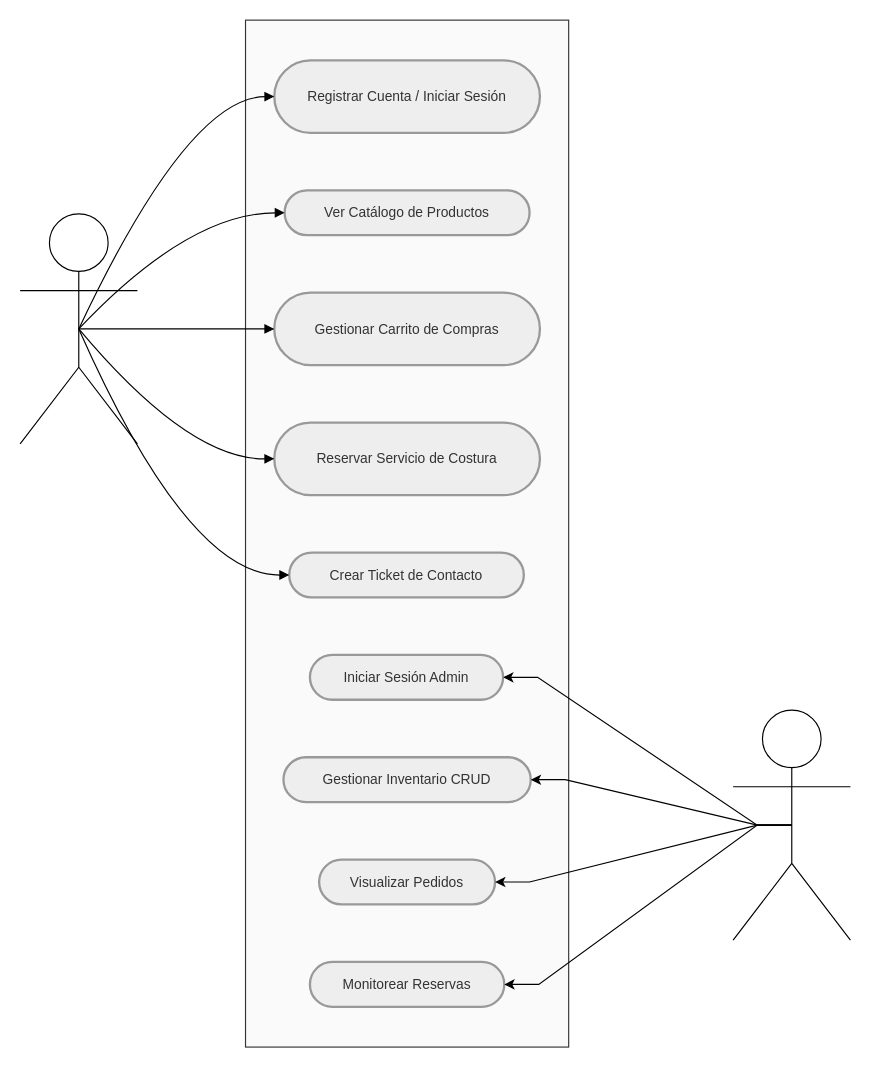
Image size: 871x1067. Some labels were removed from this diagram. Here are the shapes that lost their labels. From the top down, the box of each, then its label:
(19, 213, 137, 444): Cliente
(244, 19, 569, 1047): Sistema de Digitalización Cosarbo
(732, 709, 850, 940): Administrador
